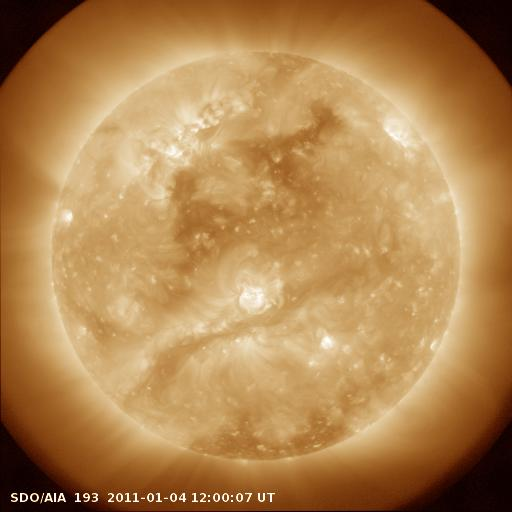coronal_hole: (241, 93, 338, 185), (193, 410, 361, 462), (167, 167, 246, 276)
